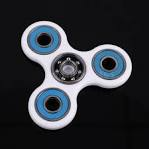fidget_spinner: (3, 6, 134, 131)
